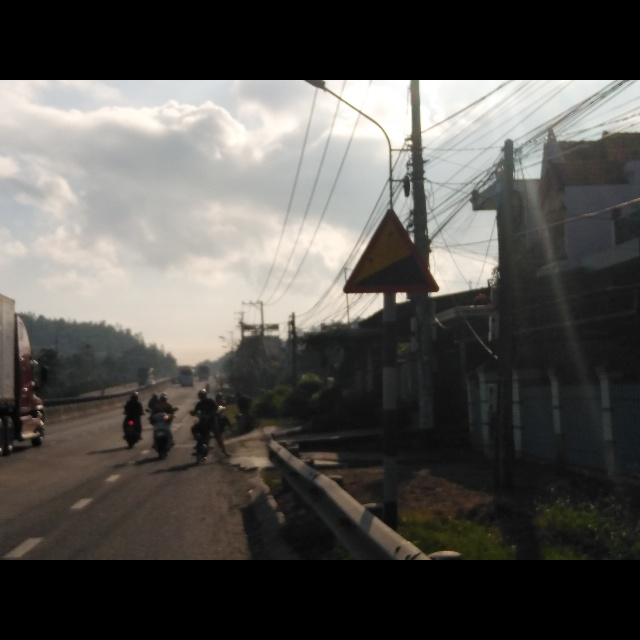Dốc lên nguy hiểm: (343, 207, 442, 297)
